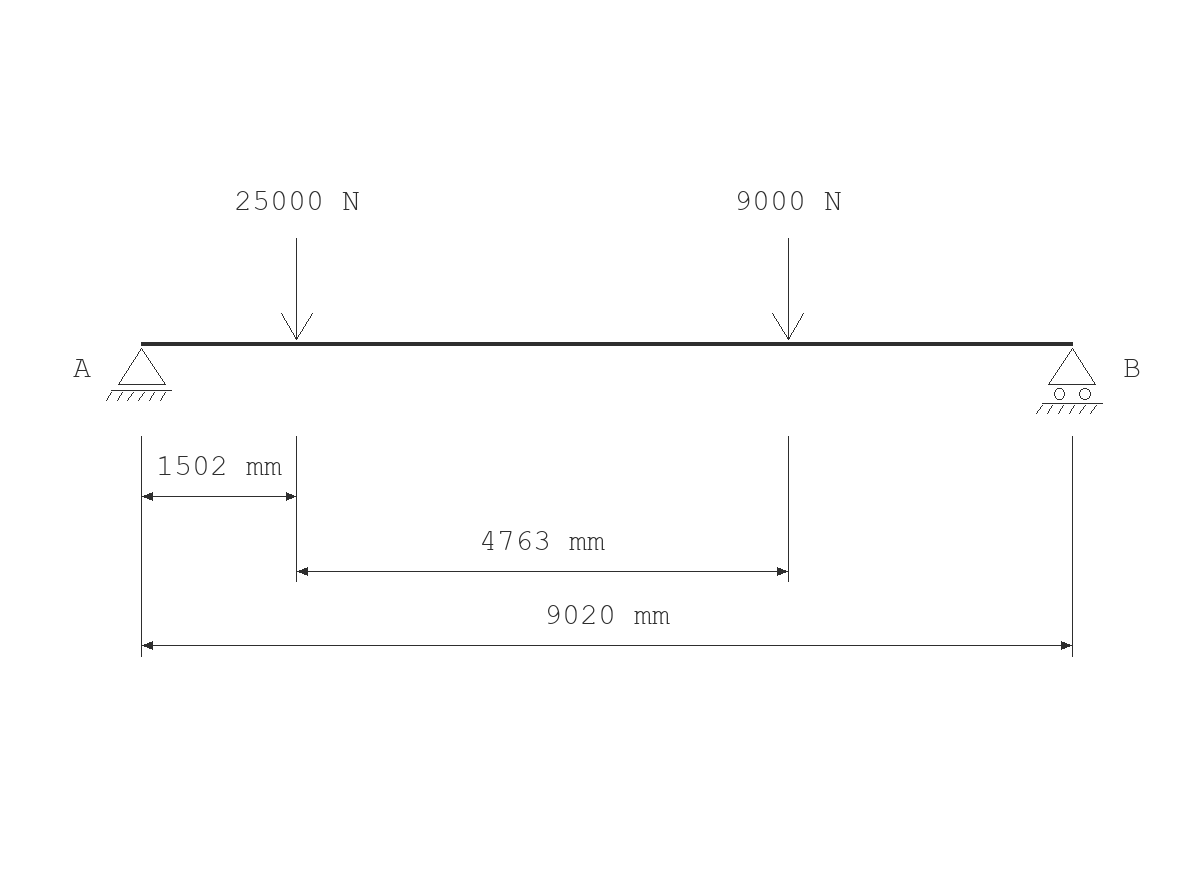pin_support: (106, 348, 172, 401)
point_load: (281, 238, 313, 340), (772, 238, 804, 340)
roller_support: (1036, 348, 1103, 414)
